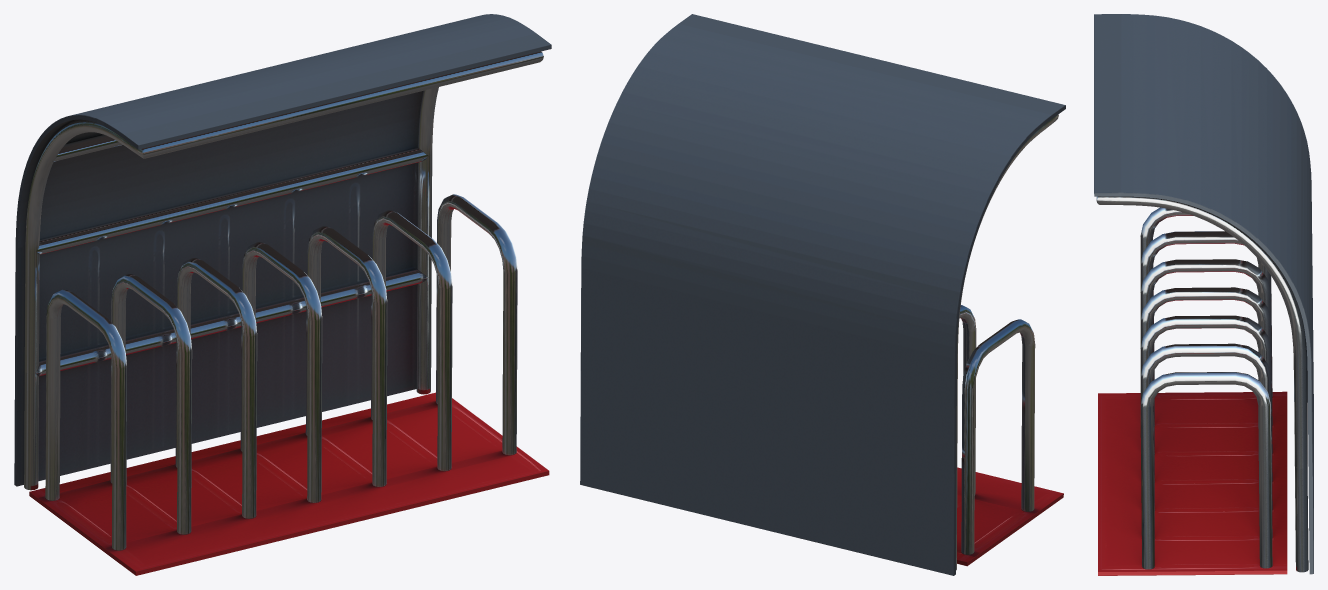
The model's file is bycicle_shelter.glb.
The picture shows the model from 3 angles, left to right: view 1: azimuth 30°, elevation 25°; view 2: azimuth 150°, elevation 25°; view 3: azimuth 270°, elevation 25°; orthographic projection. The views are drawn at different scales.
Visible parts, largest first — view 1: bycicle_shelter, shelter_frame; view 2: bycicle_shelter, shelter_frame; view 3: bycicle_shelter, shelter_frame.
Part boxes in pixels (<box>): bycicle_shelter: <box>14,14,551,575</box>; shelter_frame: <box>24,51,543,550</box>; bycicle_shelter: <box>580,14,1065,575</box>; shelter_frame: <box>956,114,1058,570</box>; bycicle_shelter: <box>1094,14,1313,575</box>; shelter_frame: <box>1096,196,1308,572</box>.
Bounding box in the file's own units: 2.23 × 2.23 × 1.16.
Materials: 3 (3 with a texture image).
